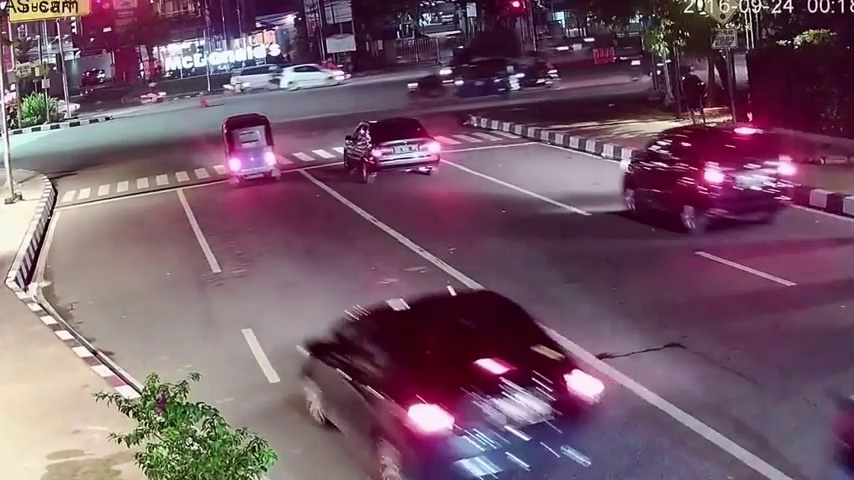car: (302, 293, 618, 480), (623, 119, 796, 243), (342, 115, 441, 181), (222, 112, 282, 190), (220, 110, 280, 188)
